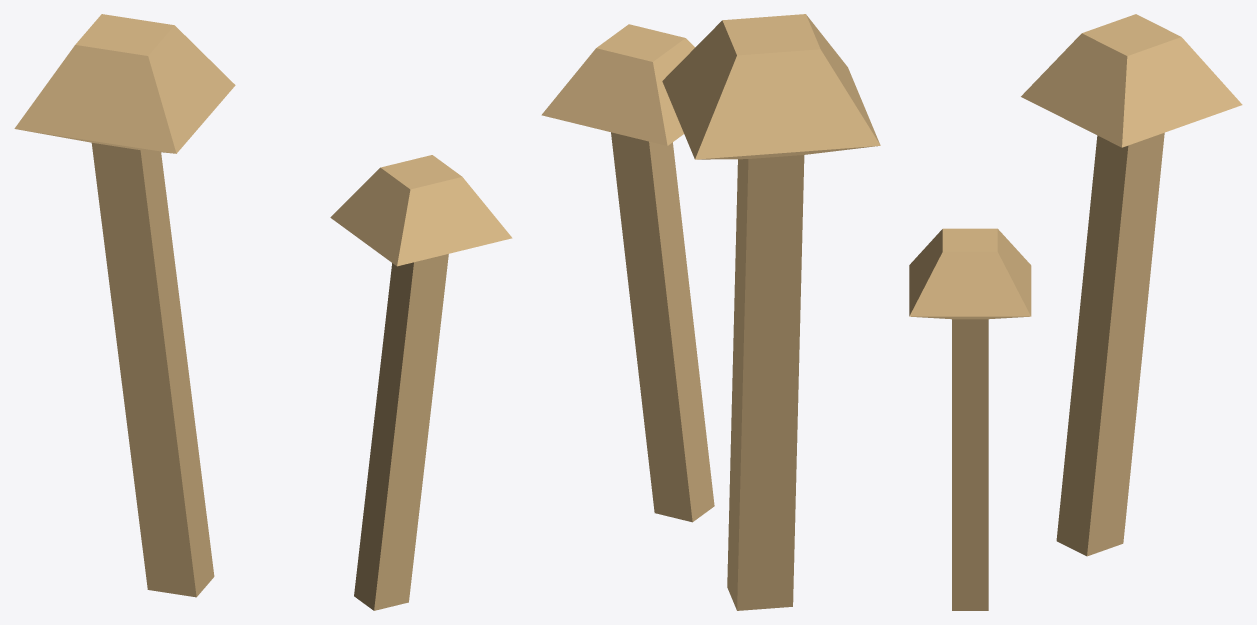
The model's file is Mega_Asset_s_Pack_Cube_349.FBX.
The picture shows the model from 3 angles, left to right: view 1: azimuth 30°, elevation 25°; view 2: azimuth 150°, elevation 25°; view 3: azimuth 270°, elevation 25°; orthographic projection. The views are drawn at different scales.
Parts seen in each view (by area): view 1: Mega_Asset_s_Pack_Cube_349; view 2: Mega_Asset_s_Pack_Cube_349; view 3: Mega_Asset_s_Pack_Cube_349.
Part boxes in pixels (bbox=[...]): Mega_Asset_s_Pack_Cube_349: bbox=[14, 14, 512, 610]; Mega_Asset_s_Pack_Cube_349: bbox=[541, 14, 880, 610]; Mega_Asset_s_Pack_Cube_349: bbox=[909, 14, 1242, 610].
Size of what is drawn, in the model's own units: 53.38 by 45.5 by 74.28.
